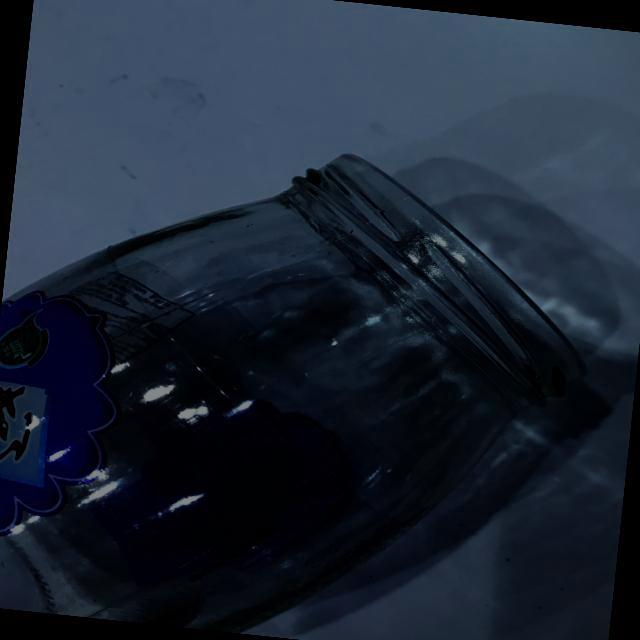glass: (0, 109, 625, 640)
